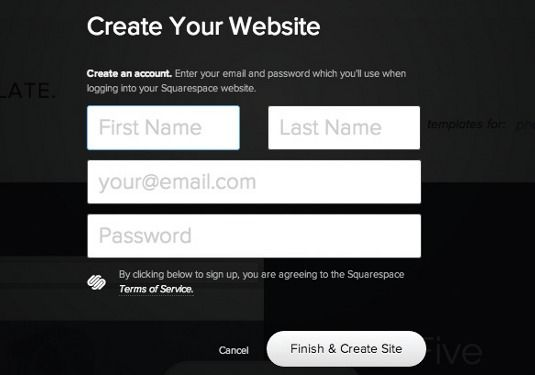button: (264, 330, 427, 368)
field: (85, 213, 422, 259), (85, 159, 421, 205), (86, 105, 241, 151), (267, 106, 420, 150)
